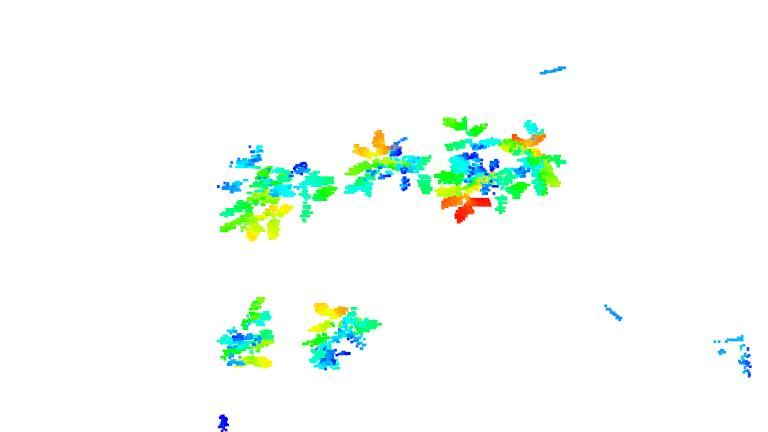chickpea: (214, 144, 295, 242), (433, 118, 501, 227), (300, 302, 385, 374), (346, 133, 432, 201), (504, 116, 567, 204), (215, 295, 275, 371), (273, 155, 338, 221)
